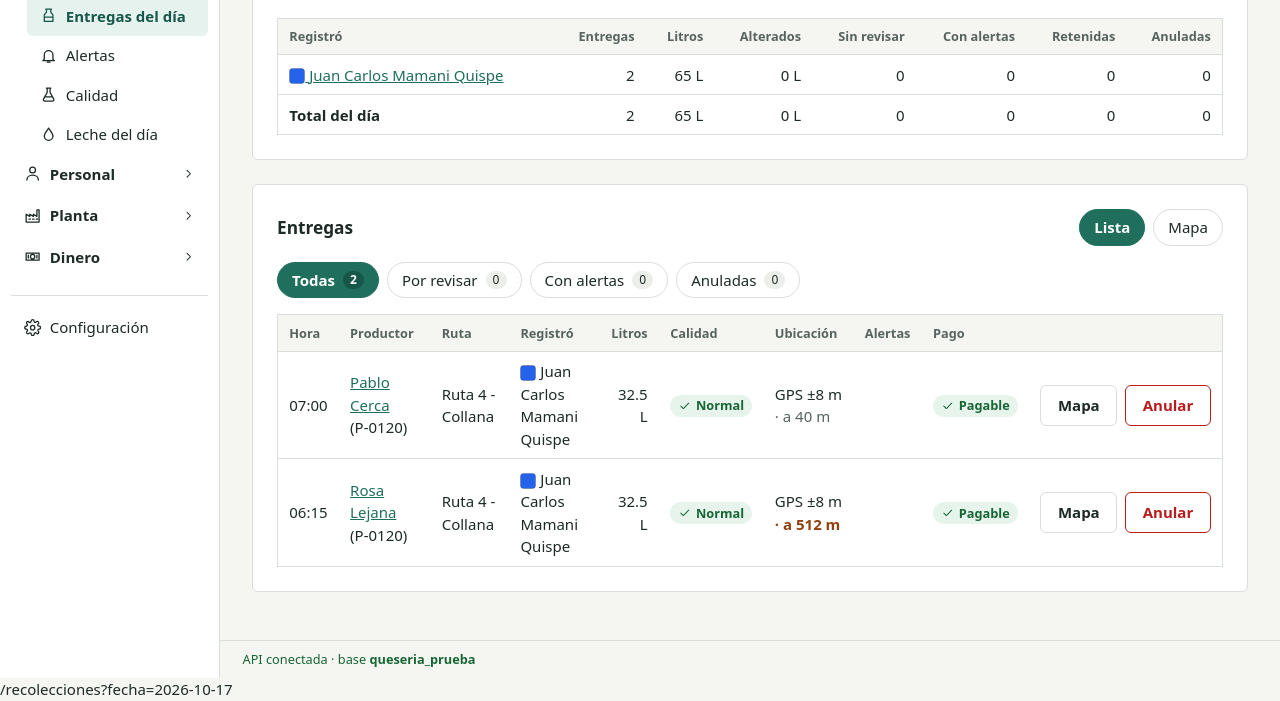
Scenario: vista mapa, filtros y etiquetas › la ubicación dice a cuánto quedó de su referencia (lejos, en ámbar) y 'Mapa' abre la entrega con su enlace
(page scrolled)
Step 1. Click the button with aria-label "Ver en el mapa la entrega de Rosa Lejana de las 06:15" → (1079, 513), box [1040,492,1117,533]
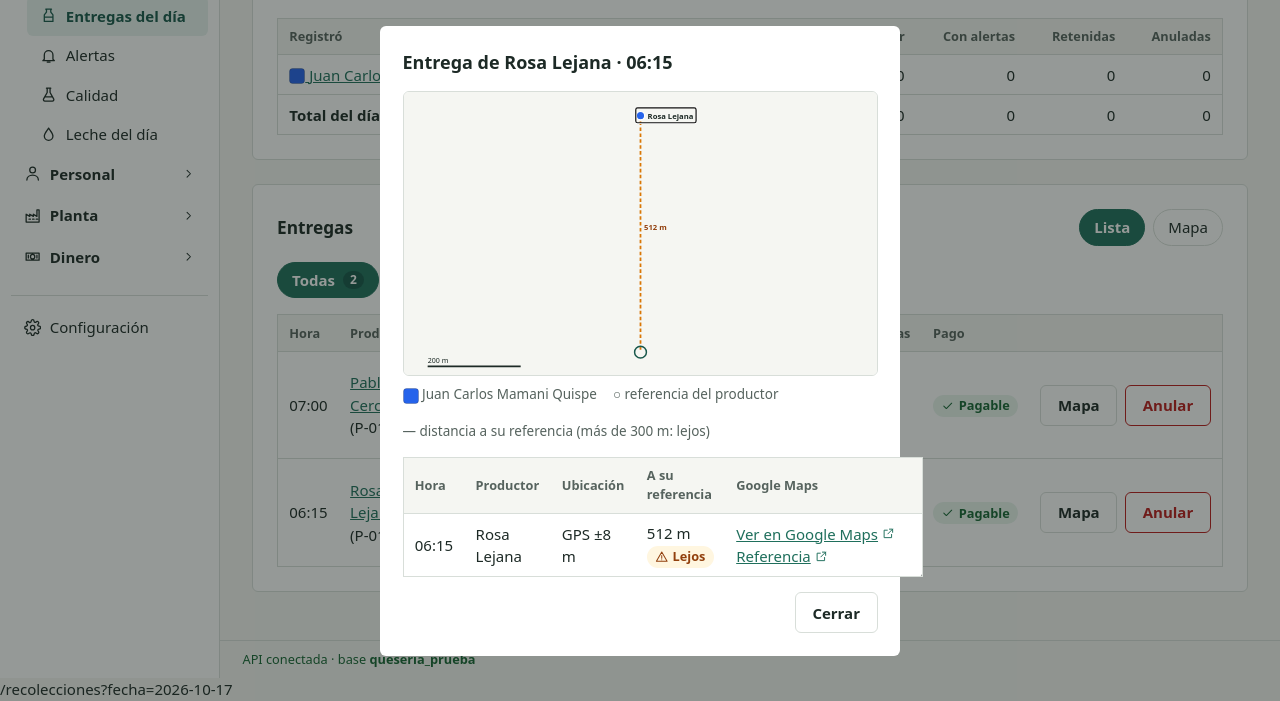
Expected: the picture named "Mapa de 1 entrega con ubicación y la referencia de su productor" is shown, [402,91,878,376]
Expected: the text "Lejos" is shown, [647,546,714,568]
Step 2. Click the button "Cerrar" → (836, 613), box [795,592,878,633]
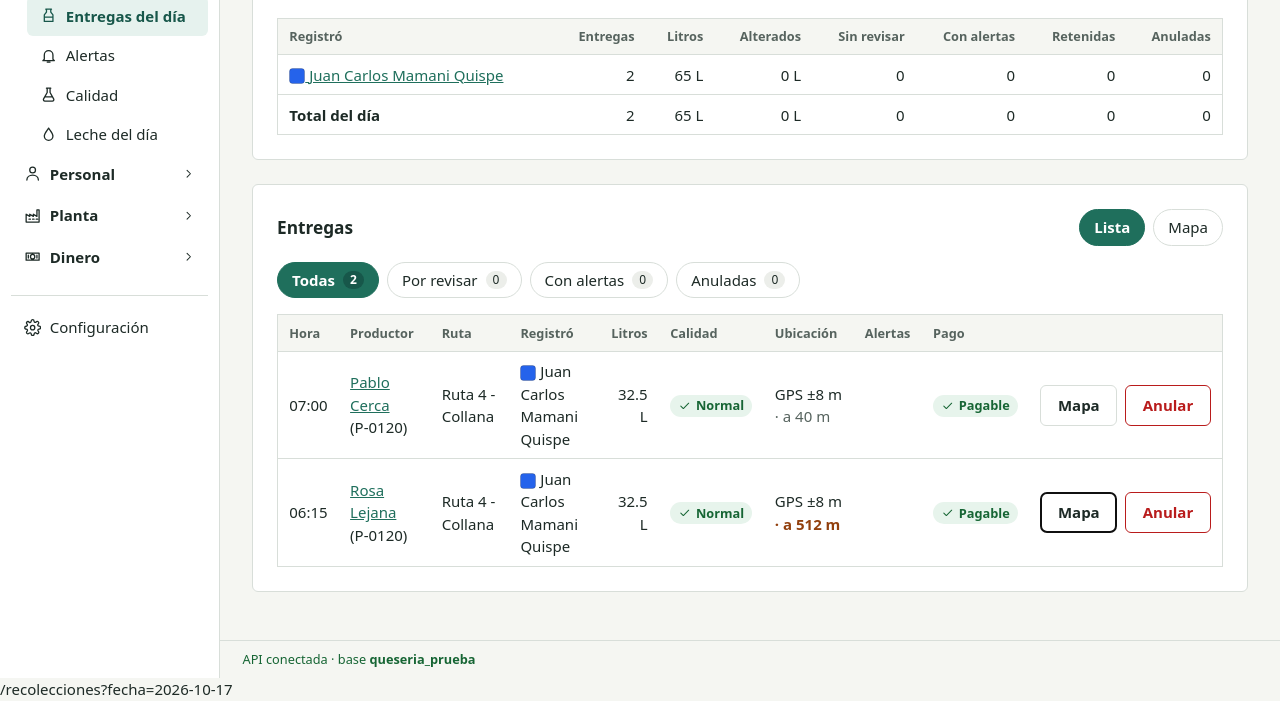
Expected: the dialog is gone
